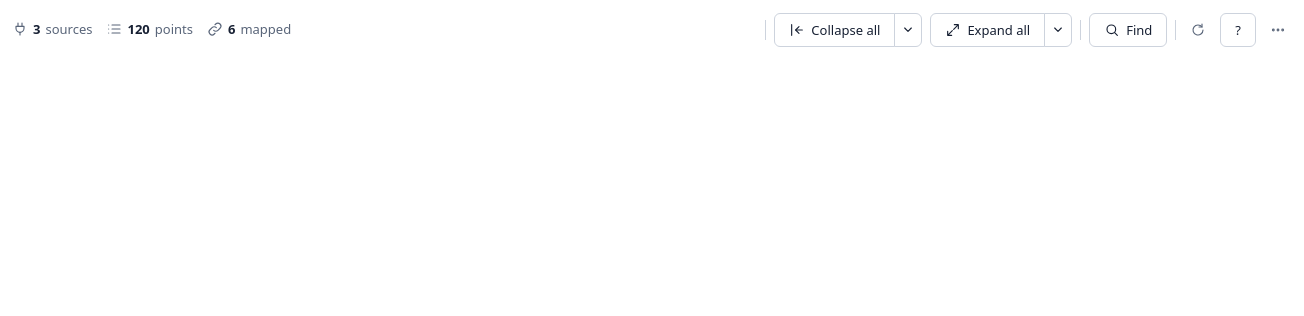
GraphBar › not seen: Turn on Not seen lately and Remove not seen (w33) › come after Clear unmapped, last in the menu
The width and height of the screenshot is (1304, 316).
Click the button named "More Discovery actions" at (1278, 30), box [1264, 16, 1292, 44]
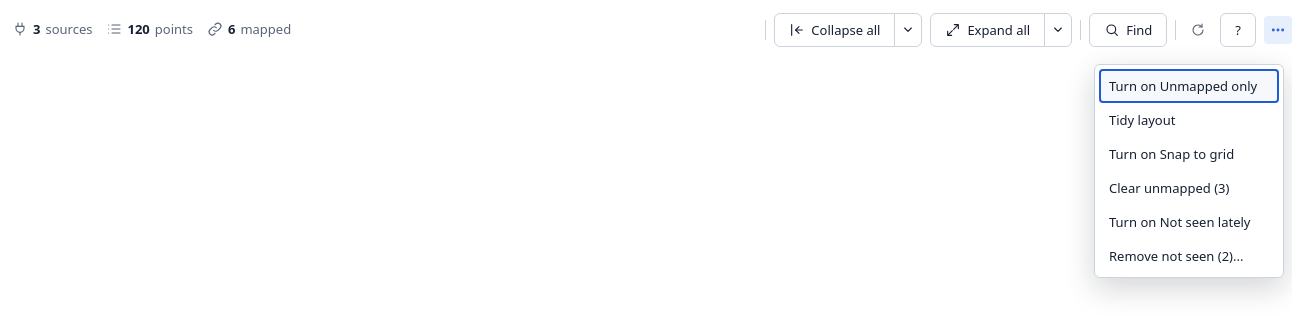
Now the menu items read "Turn on Unmapped only", "Tidy layout", "Turn on Snap to grid", "Clear unmapped (3)", "Turn on Not seen lately", "Remove not seen (2)...", in this order, box [1099, 69, 1279, 103]; [1099, 103, 1279, 137]; [1099, 137, 1279, 171]; [1099, 171, 1279, 205]; [1099, 205, 1279, 239]; [1099, 239, 1279, 273]
